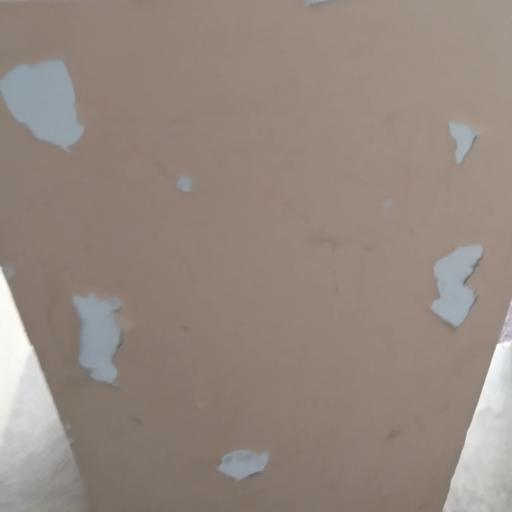peeling: (0, 45, 115, 168), (64, 283, 163, 379), (407, 237, 507, 332), (431, 108, 497, 181), (215, 434, 276, 493), (173, 154, 229, 216)
